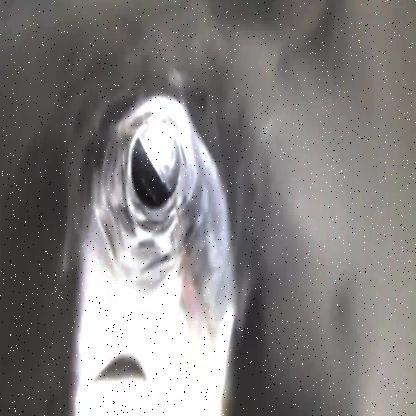Crack: (84, 102, 219, 292)
